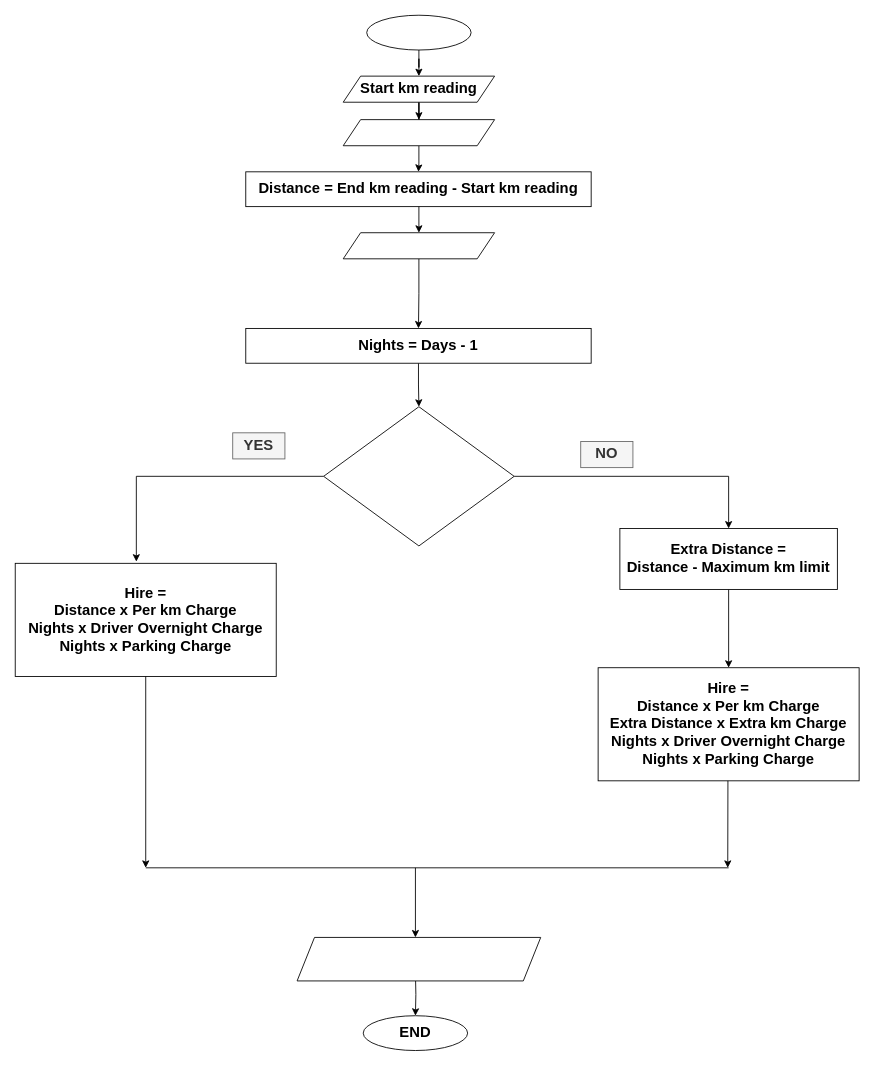
Image size: 874x1066. Some labels were removed from this diagram. Here are the shapes that lost their labels. From the top down, the centre of each, then its label:
the point at 418,32: START
the point at 418,132: End km reading
the point at 418,245: Days
the point at 418,476: If Distance <= Maximum km Limit
the point at 418,959: Print Rent Total
